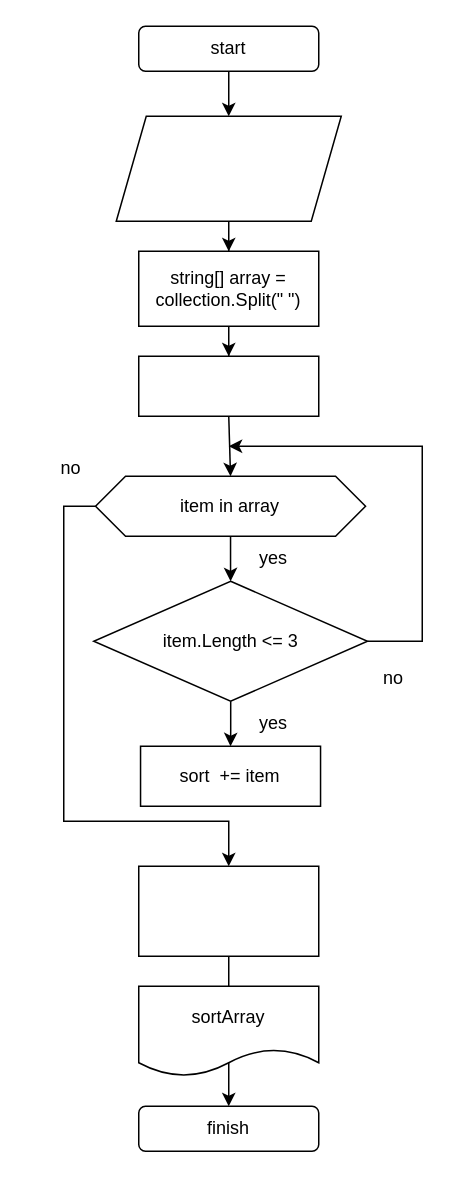
This 464x1178 diagram has some shape labels left out. The centre of each missing label's shape, as x and y in pixels:
collection = user value: [228,168]
string sort = String.Empty: [228,385]
string[] sortArray = sort.Split(" "): [228,910]
